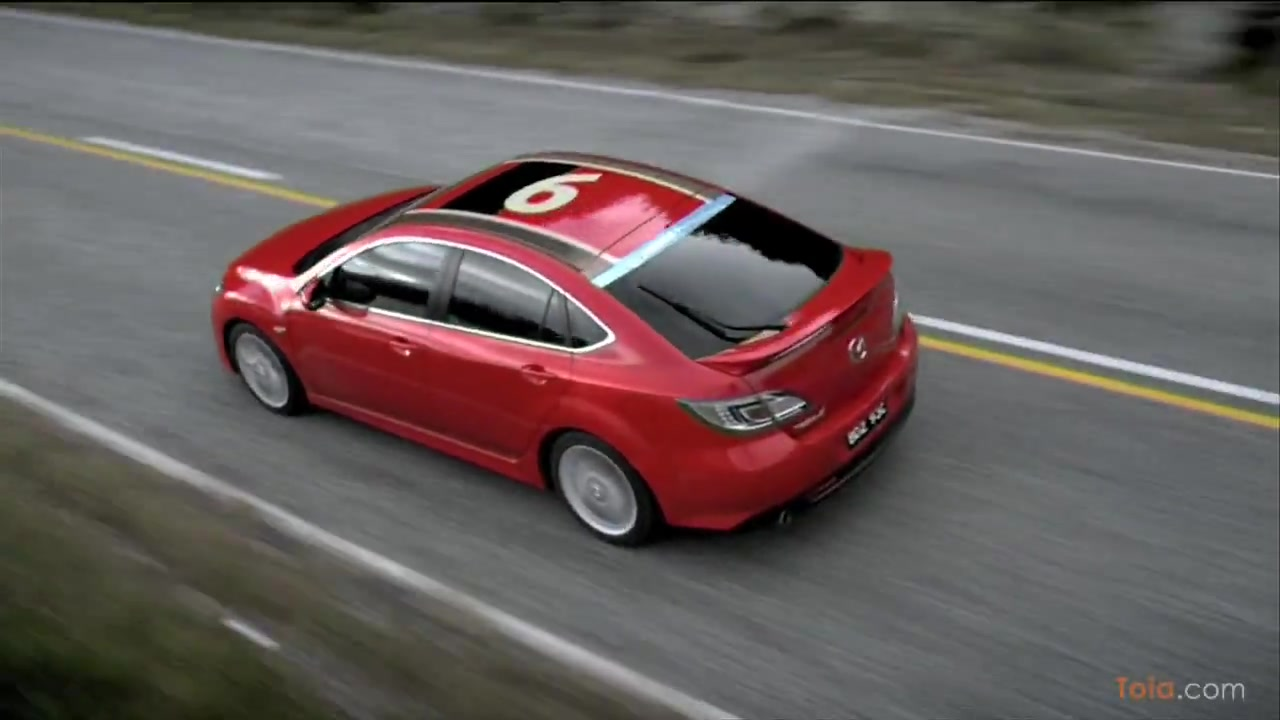car: (206, 144, 923, 551)
